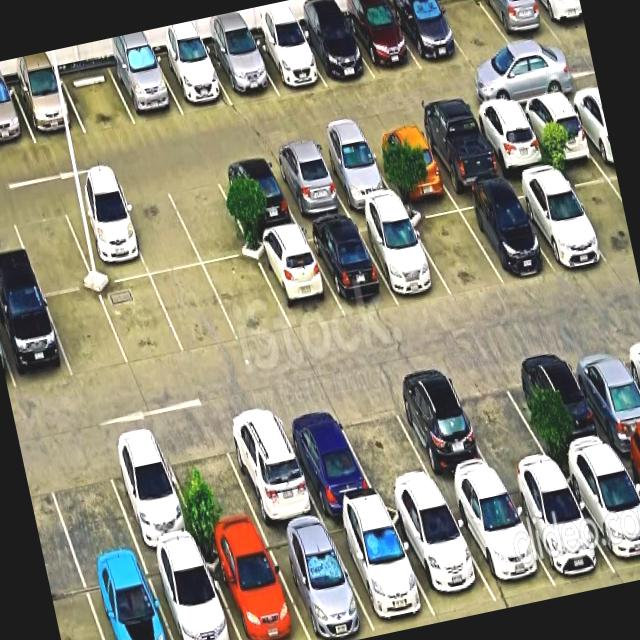car: (404, 504, 488, 624), (342, 515, 424, 637), (464, 489, 546, 611), (228, 432, 314, 547), (526, 474, 604, 598), (279, 528, 364, 640), (114, 458, 196, 570), (402, 386, 482, 499), (297, 422, 372, 538), (522, 352, 596, 466), (212, 542, 298, 640), (530, 170, 603, 280), (369, 206, 442, 310), (580, 461, 640, 586), (474, 184, 546, 288), (67, 184, 141, 281), (429, 105, 498, 208), (375, 111, 443, 214), (318, 214, 386, 317), (110, 28, 177, 130), (260, 232, 330, 327), (219, 153, 291, 245), (528, 86, 594, 186), (480, 98, 546, 198), (155, 559, 235, 640), (579, 348, 640, 454), (208, 8, 271, 104), (255, 0, 317, 97), (87, 572, 175, 640), (160, 19, 222, 115), (0, 297, 65, 388), (300, 0, 365, 89), (13, 49, 75, 140), (324, 131, 386, 221), (277, 142, 338, 228), (349, 0, 411, 78), (394, 0, 455, 69), (477, 0, 541, 44), (0, 59, 26, 152)
free: (51, 461, 137, 582), (176, 443, 254, 555), (348, 408, 430, 514), (461, 372, 536, 482), (418, 203, 494, 299), (62, 38, 130, 138), (126, 176, 193, 276), (50, 287, 122, 379), (102, 270, 172, 364), (178, 164, 245, 260), (16, 208, 86, 298), (208, 249, 276, 339), (157, 260, 223, 346), (436, 0, 500, 59)
